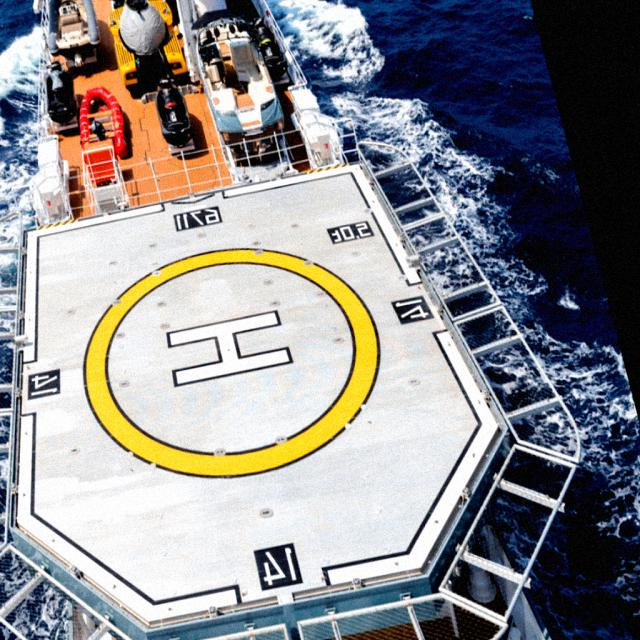helipad: (76, 243, 383, 486)
